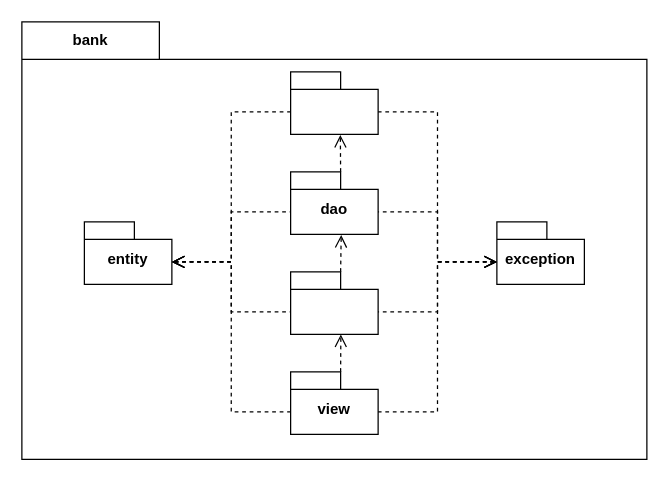
Image size: 669x481. Some labels were removed from this diagram. Here are the shapes that lost their labels. From the top down, the centre of each, then its label:
At point 333,102: "database".
At point 333,302: "service".
